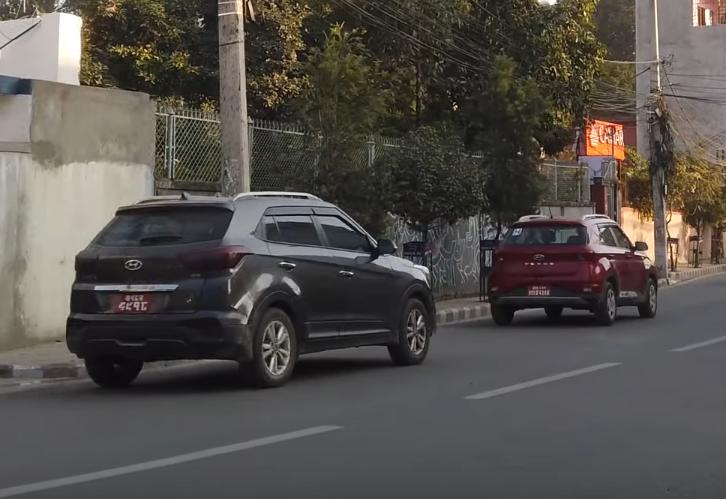car: (65, 186, 442, 393), (489, 201, 658, 338)
